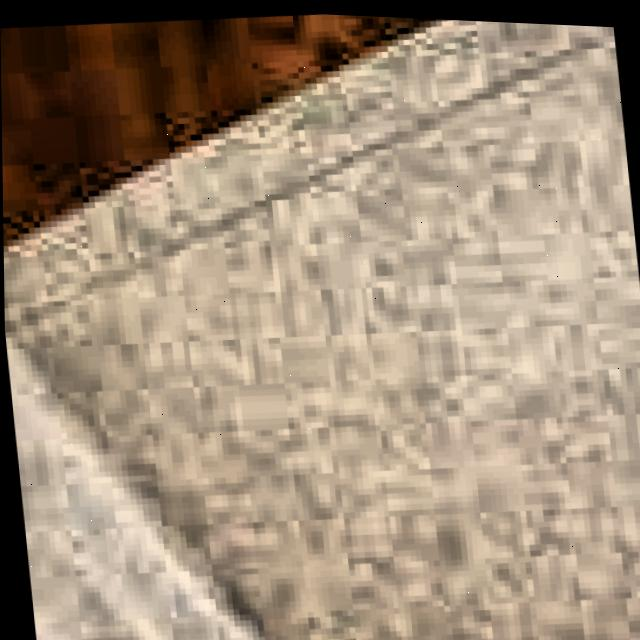paper: (3, 15, 640, 640)
